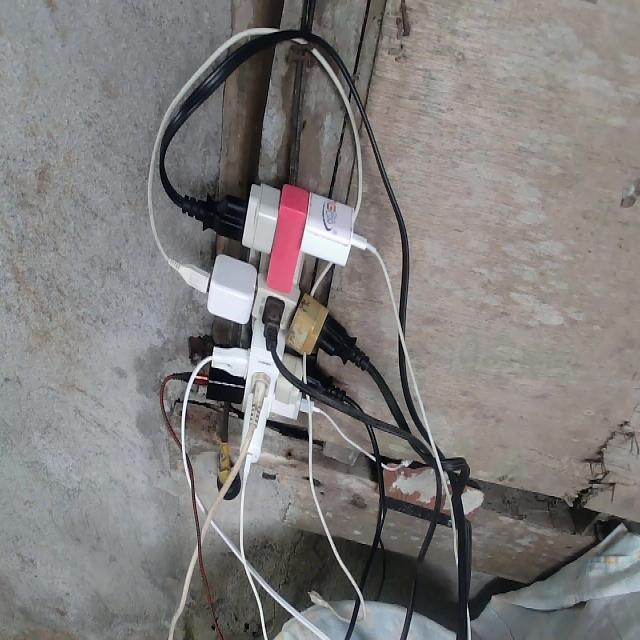-: (168, 180, 373, 469)
